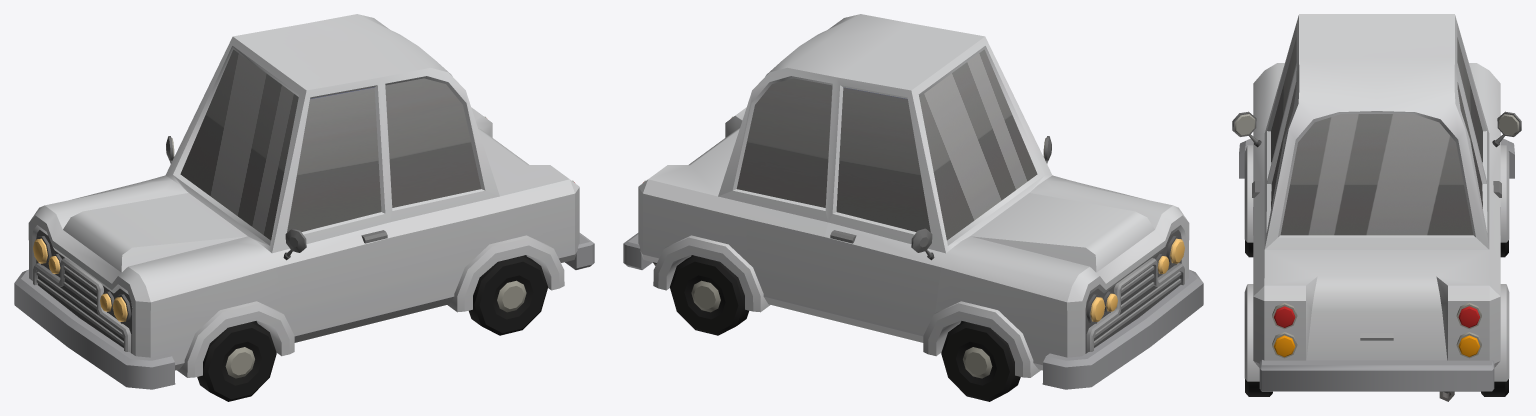
File: Car_8_A.gltf
3 views of the same model, side by side, from view 1: azimuth 30°, elevation 25°; view 2: azimuth 150°, elevation 25°; view 3: azimuth 270°, elevation 25° (orthographic). The views are drawn at different scales.
Parts seen in each view (by area): view 1: Car_8_A, RL, FL; view 2: Car_8_A, RR, FR; view 3: Car_8_A, RL, RR.
Part boxes in pixels (<box>): Car_8_A: <box>14,14,594,389</box>; RL: <box>469,255,547,335</box>; FL: <box>197,321,276,401</box>; Car_8_A: <box>623,14,1203,389</box>; RR: <box>670,255,748,335</box>; FR: <box>941,321,1020,401</box>; Car_8_A: <box>1232,14,1521,401</box>; RL: <box>1245,379,1272,396</box>; RR: <box>1481,379,1508,396</box>.
Bounding box in the file's own units: 3.38 × 1.84 × 1.7.
3 materials, 3 textured.
